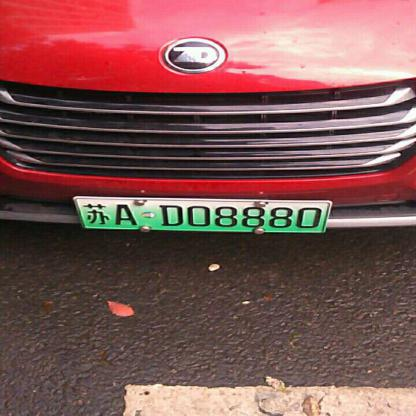lp: (75, 198, 329, 232)
